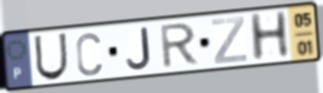C: (74, 31, 104, 78)
H: (247, 9, 292, 64)
J: (124, 25, 153, 72)
R: (159, 21, 201, 71)
U: (32, 32, 69, 83)
Z: (209, 15, 249, 66)
